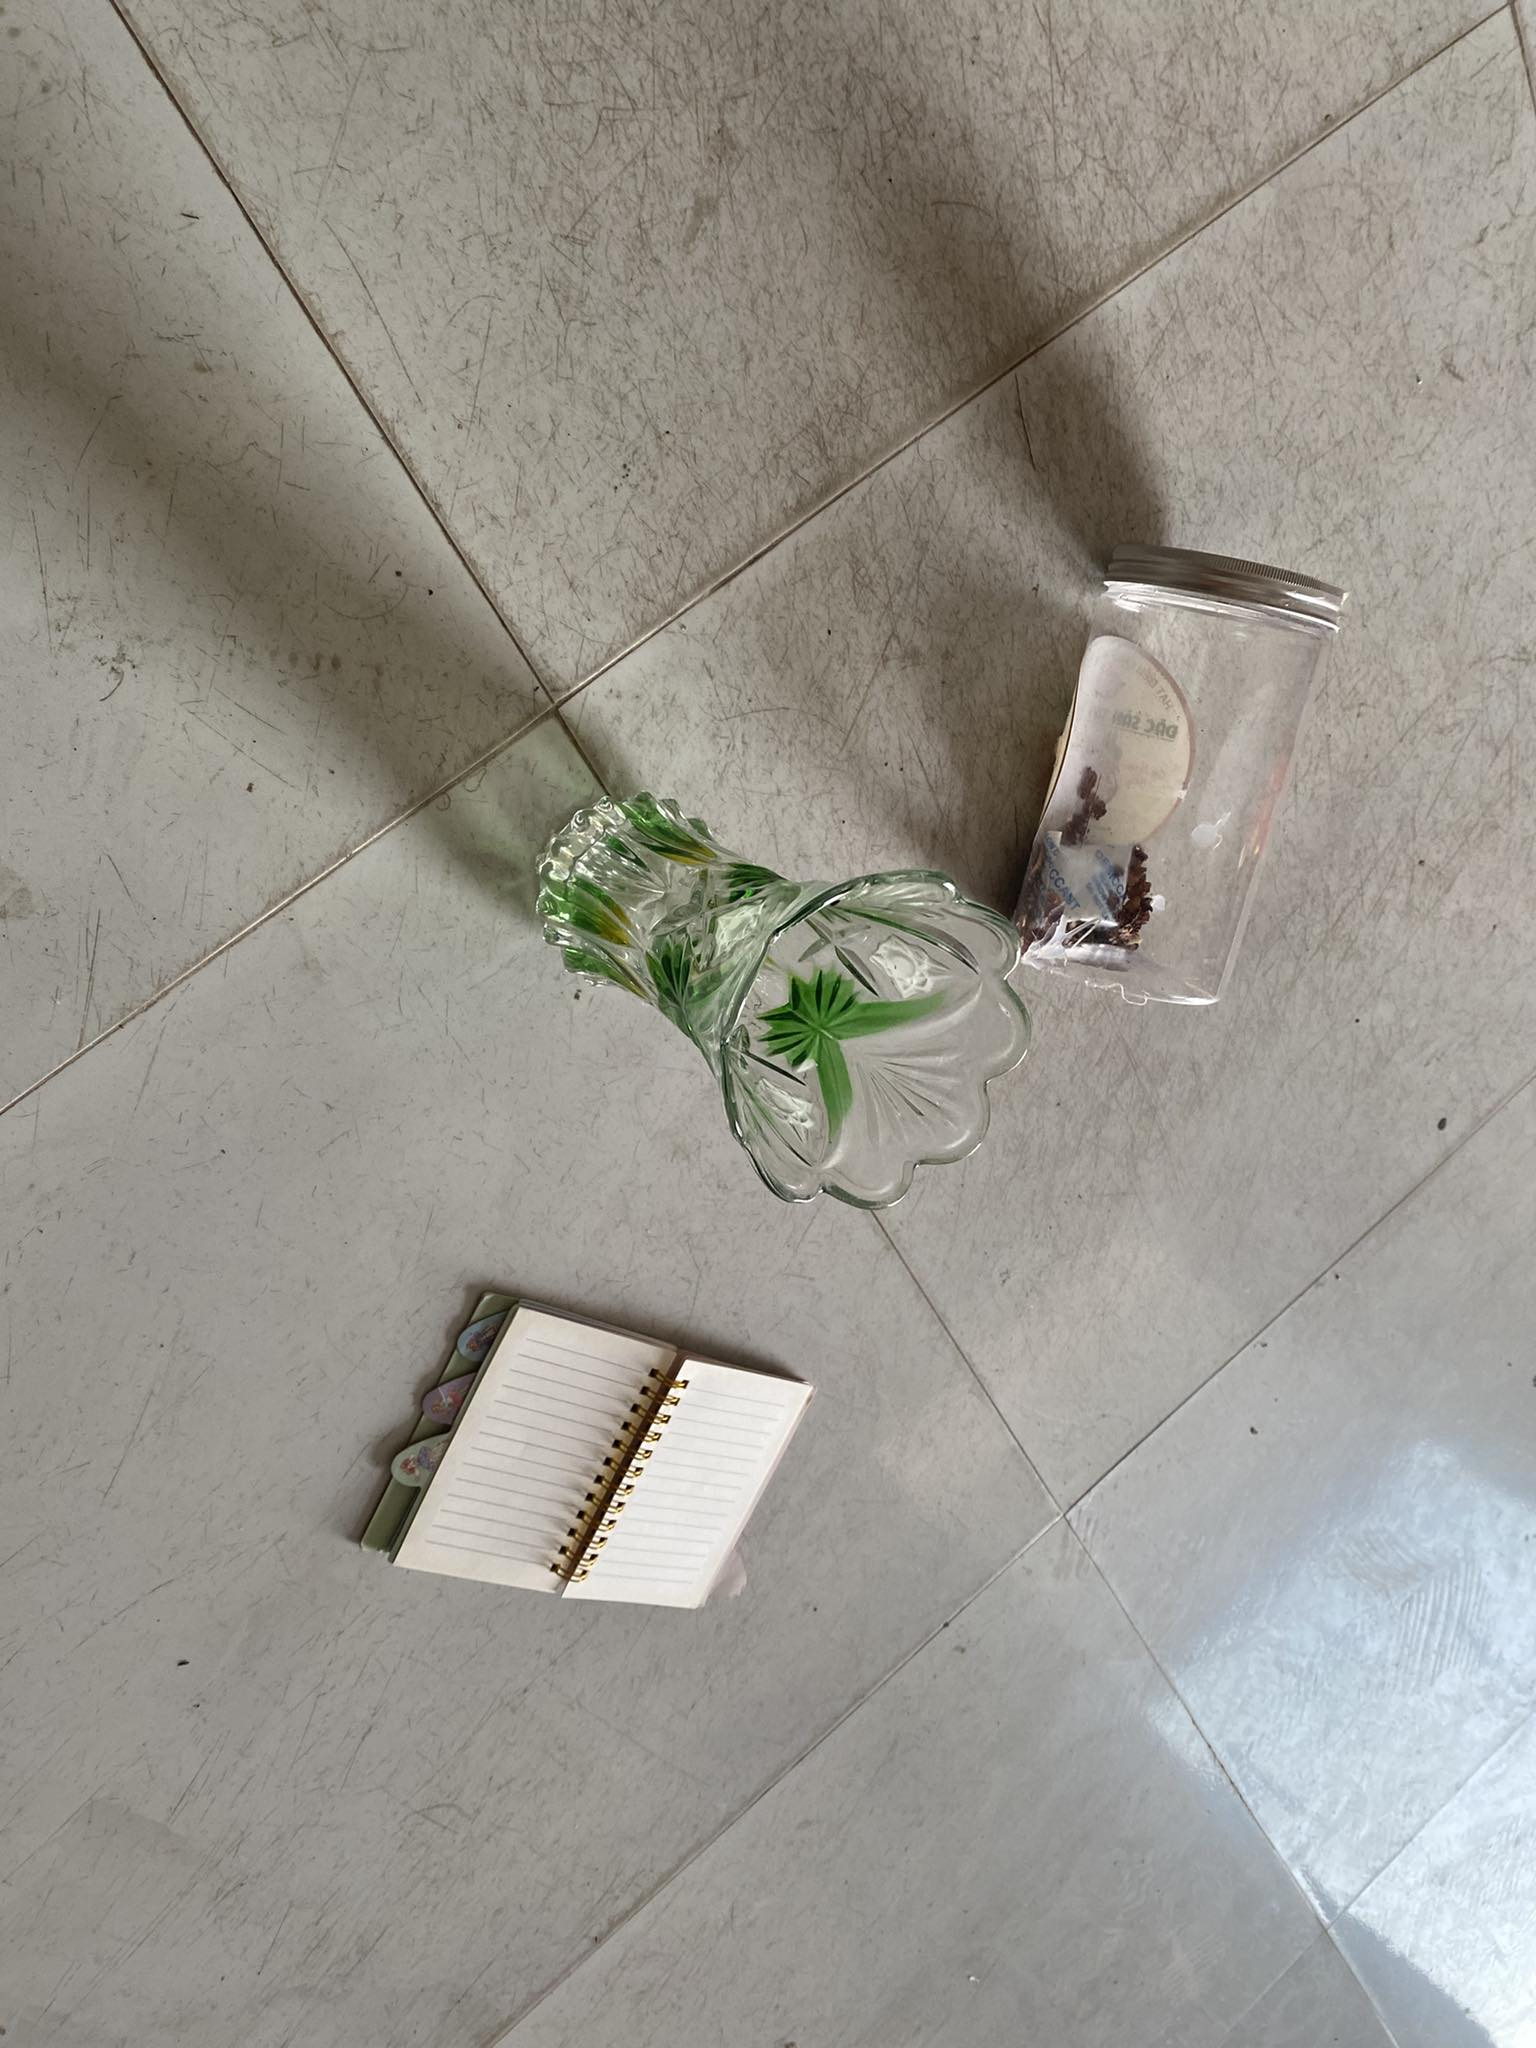glass: (381, 758, 1016, 1200)
paper: (347, 1248, 807, 1640)
plastic: (997, 532, 1352, 1043)
